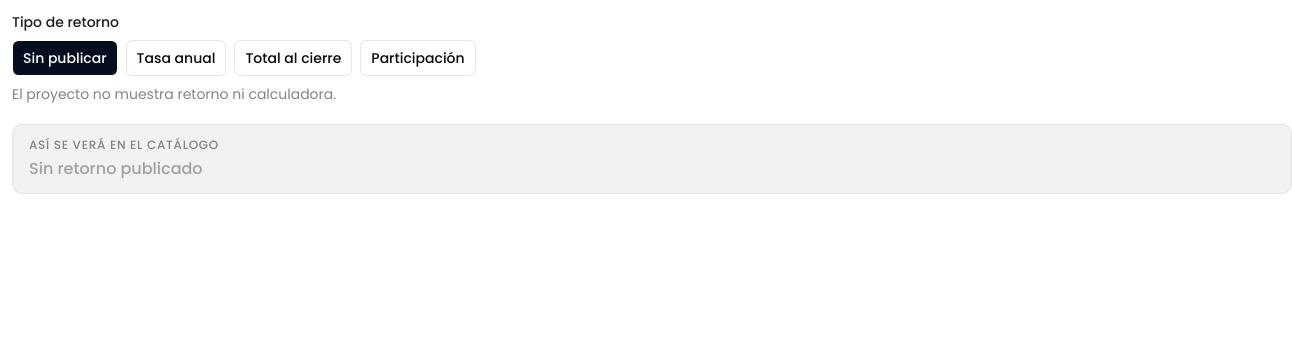
Test: annual rate by term › previews the catalogue label as the admin types
The width and height of the screenshot is (1292, 347).
Click the button "Tasa anual" at (176, 58), box x1=126 y1=40 x2=226 y2=76
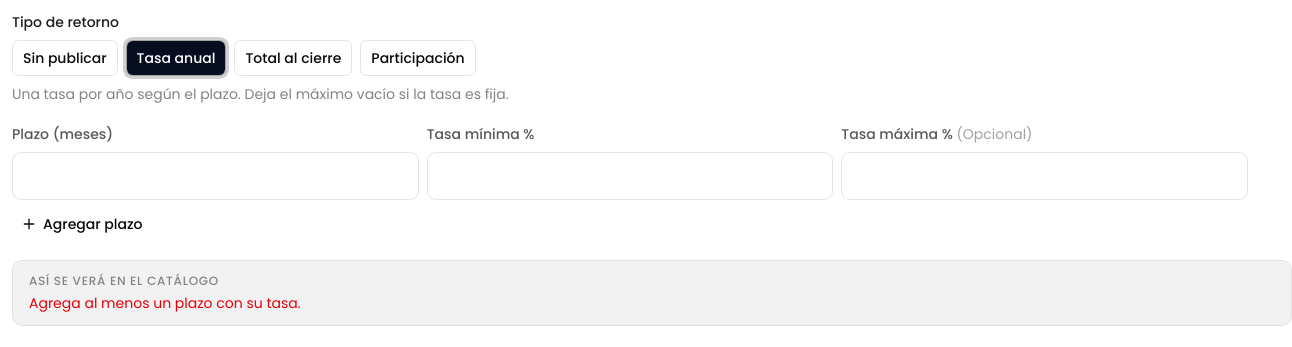
Type "12" into the field named "Plazo (meses), fila 1" at (215, 176), box x1=12 y1=152 x2=419 y2=200
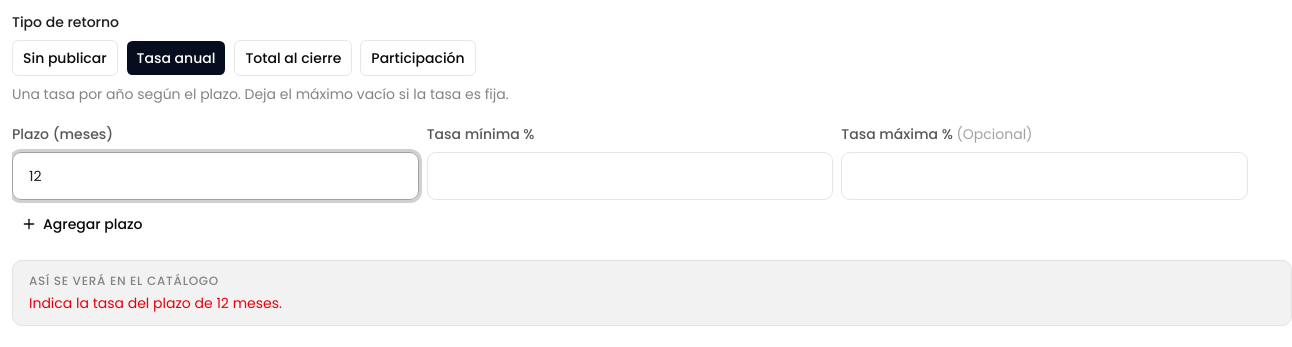
Type "10" into the field named "Tasa mínima %, fila 1" at (630, 176), box x1=427 y1=152 x2=833 y2=200
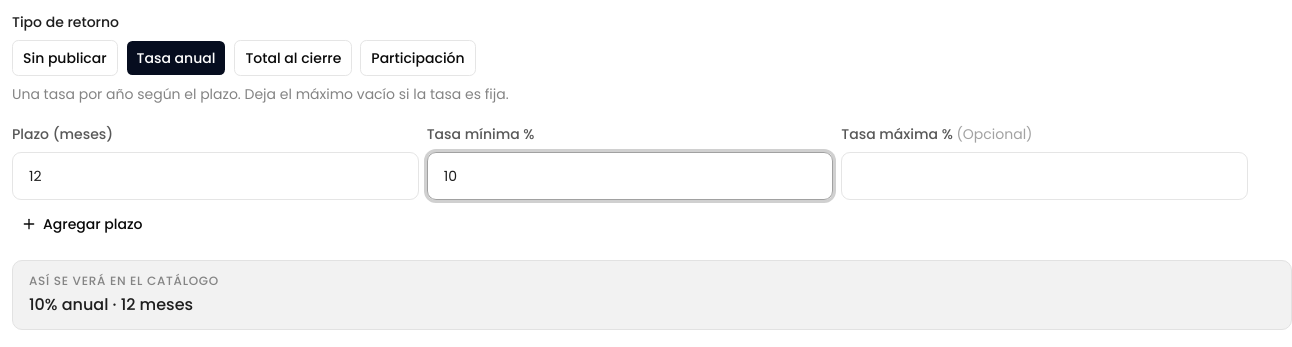
Type "15" into the field named "Tasa máxima %, fila 1" at (1045, 176), box x1=841 y1=152 x2=1248 y2=200
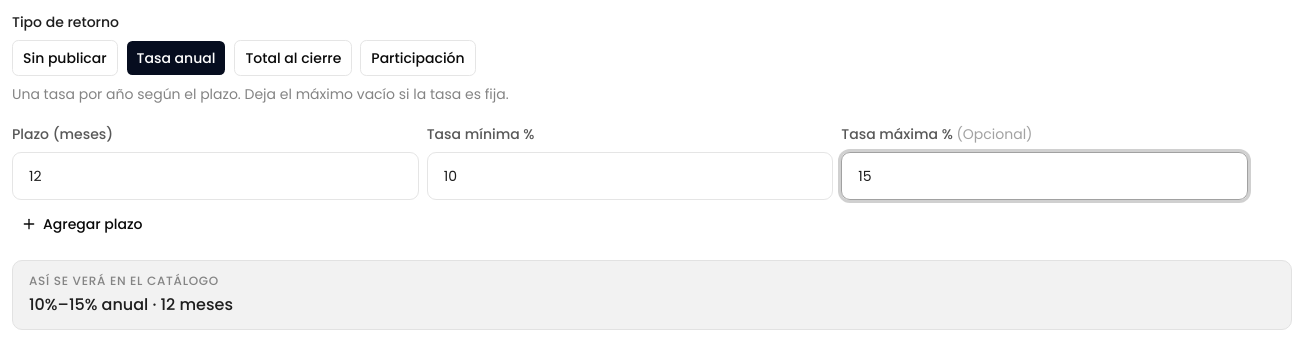
Now the element with test id "return-offer-preview" shows "10%–15% anual · 12 meses", box x1=29 y1=293 x2=233 y2=316
